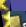star: (0, 11, 10, 27), (0, 0, 10, 11)
